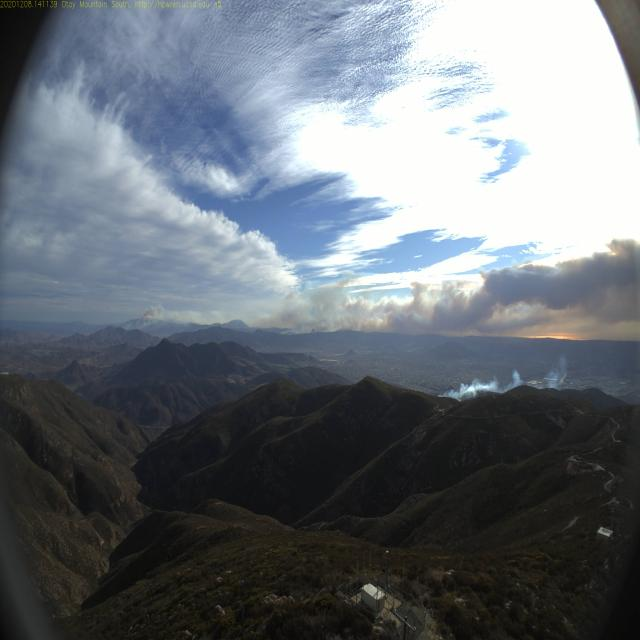smoke: (527, 348, 640, 404), (438, 374, 497, 401), (498, 368, 526, 393)
